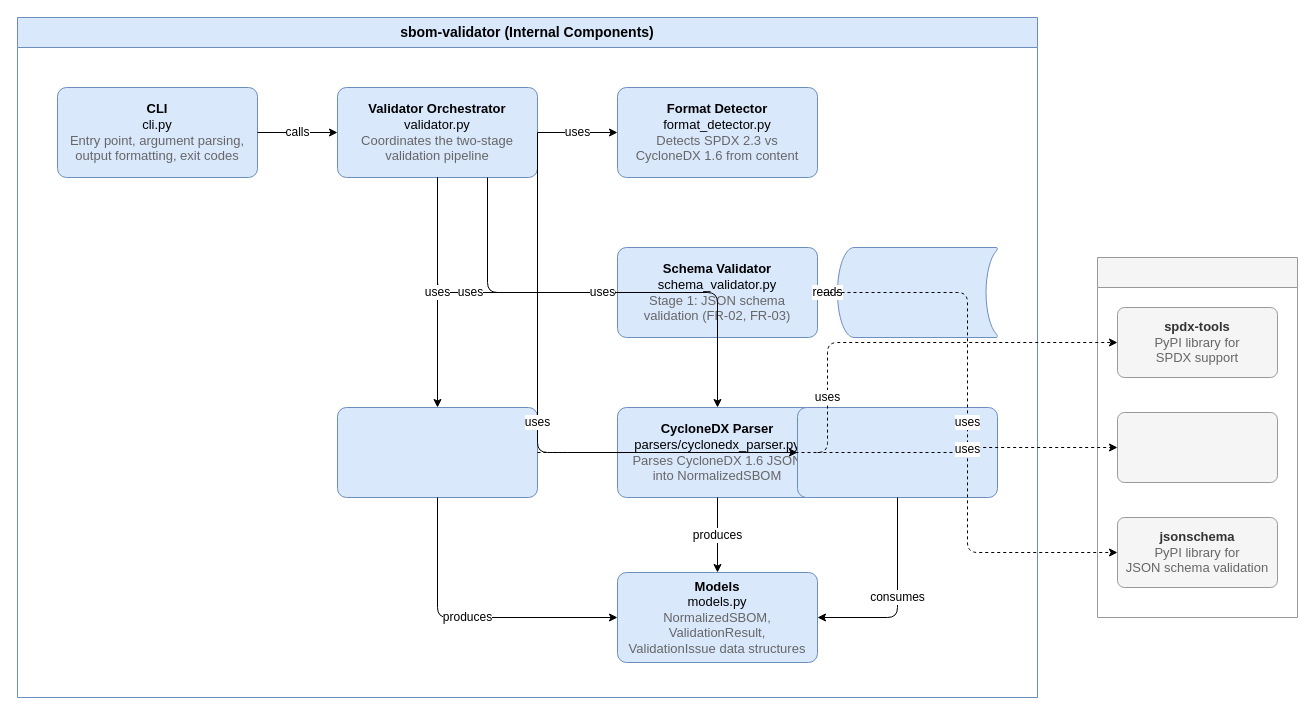
The diagram is 1315 pixels wide and 715 high, and some of its shapes have lost their labels. Here are the shapes that lost their labels. From the top down, the box of each, then its label:
(836, 246, 998, 338): Schemas schemas/ Bundled JSON schema files (SPDX 2.3, CycloneDX 1.6)
(336, 406, 538, 498): SPDX Parser parsers/spdx_parser.py Parses SPDX 2.3 JSON into NormalizedSBOM
(796, 406, 998, 498): NTIA Checker ntia_checker.py Stage 2: Checks 7 NTIA minimum elements (FR-04–10)
(1096, 256, 1298, 618): External Libraries
(1116, 412, 1278, 482): cyclonedx-bom PyPI library for CycloneDX support
